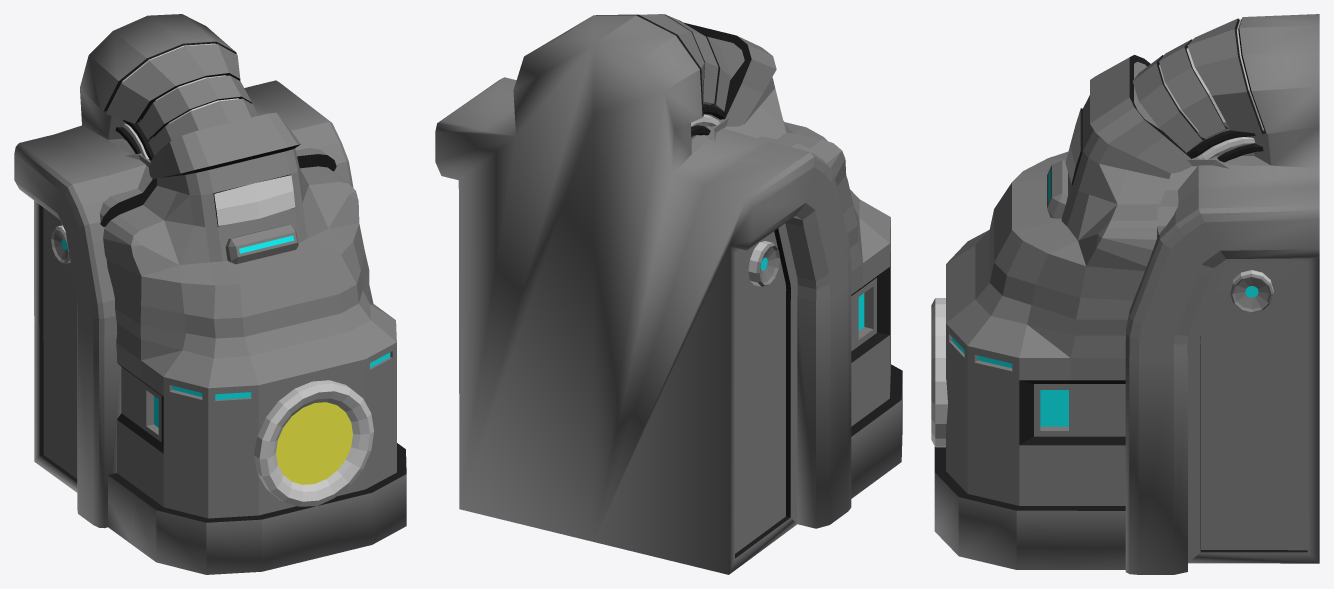
The model's file is Module_001.fbx.
The picture shows the model from 3 angles, left to right: view 1: azimuth 30°, elevation 25°; view 2: azimuth 150°, elevation 25°; view 3: azimuth 270°, elevation 25°; orthographic projection. The views are drawn at different scales.
Parts seen in each view (by area): view 1: Module_001; view 2: Module_001; view 3: Module_001.
Boxes of the visible parts, bbox=[...] form: Module_001: bbox=[14, 14, 406, 574]; Module_001: bbox=[435, 14, 902, 574]; Module_001: bbox=[931, 14, 1319, 574].
Size of the model in its own units: 308 by 461 by 341.
